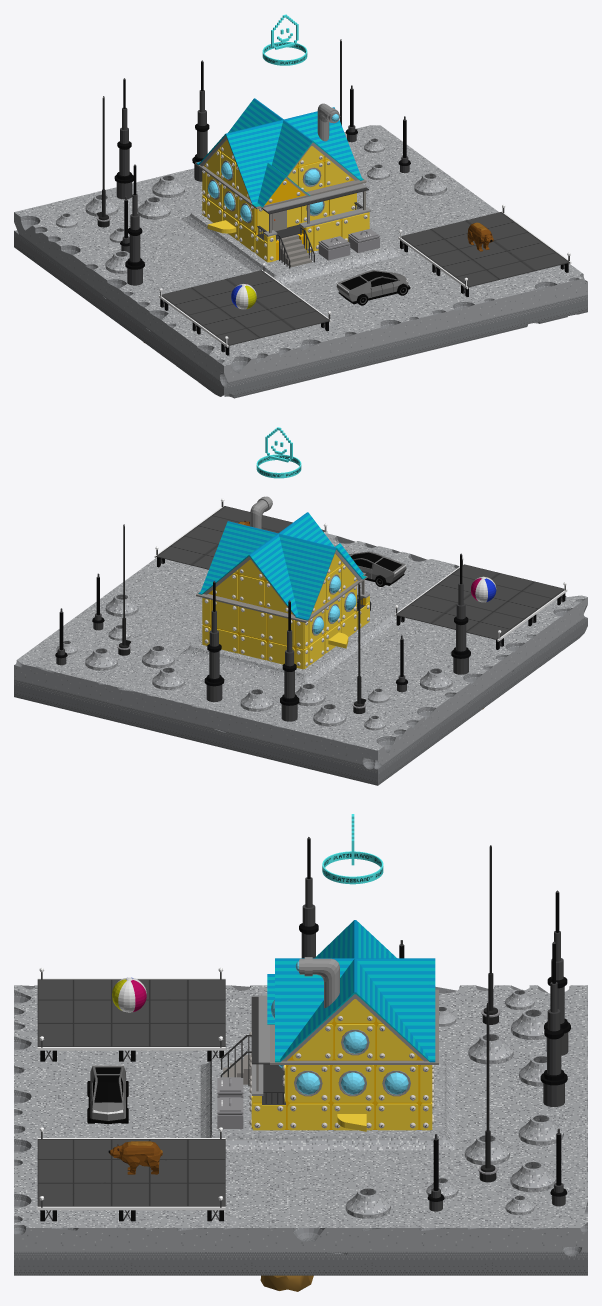
The picture shows the model from 3 angles, top to bottom: view 1: azimuth 30°, elevation 25°; view 2: azimuth 150°, elevation 25°; view 3: azimuth 270°, elevation 25°; orthographic projection. The views are drawn at different scales.
Visible parts, largest first — view 1: Cube.027, Cube.1366, Cube.026, Cube.025, Cube.028, VEHICLES_CYBERTRUCK, Cylinder.021, Cylinder.020, Cylinder.017, TYPE_PREMIUM, Cube.029, Cube.030 (+6 smaller); view 2: Cube.027, Cube.1366, Cube.025, Cube.028, Cube.026, VEHICLES_CYBERTRUCK, Cylinder.017, Cylinder.020, Cylinder.021, TYPE_PREMIUM, Cylinder.028, Cylinder.027 (+8 smaller); view 3: Cube.027, Cube.1366, Cube.025, Cube.026, Cube.028, VEHICLES_CYBERTRUCK, Cylinder.017, Cylinder.020, ANIMAL_OSO, TYPE_PREMIUM, Cylinder.021, Cylinder.033 (+13 smaller).
Part boxes in pixels (x1,y1,x2,y2): Cube.027: (14, 125, 587, 398); Cube.1366: (195, 98, 371, 268); Cube.026: (398, 204, 571, 296); Cube.025: (158, 263, 331, 355); Cube.028: (181, 210, 401, 284); VEHICLES_CYBERTRUCK: (336, 270, 410, 305); Cylinder.021: (125, 164, 144, 285); Cylinder.020: (114, 78, 133, 199); Cylinder.017: (192, 60, 209, 181); TYPE_PREMIUM: (262, 14, 307, 65); Cube.029: (318, 236, 350, 260); Cube.030: (348, 229, 379, 253); Cube.027: (14, 533, 587, 785); Cube.1366: (196, 496, 371, 669); Cube.025: (394, 557, 567, 649); Cube.028: (180, 607, 396, 684); Cube.026: (154, 498, 327, 569); VEHICLES_CYBERTRUCK: (349, 551, 406, 586); Cylinder.017: (204, 581, 224, 702); Cylinder.020: (280, 600, 299, 721); Cylinder.021: (451, 553, 470, 674); TYPE_PREMIUM: (256, 427, 301, 478); Cylinder.028: (313, 703, 346, 726); Cylinder.027: (240, 688, 273, 711); Cube.027: (14, 985, 587, 1275); Cube.1366: (220, 920, 438, 1131); Cube.025: (37, 967, 225, 1061); Cube.026: (37, 1127, 225, 1221); Cube.028: (200, 1058, 455, 1150); VEHICLES_CYBERTRUCK: (87, 1065, 128, 1124); Cylinder.017: (540, 941, 567, 1106); Cylinder.020: (544, 890, 570, 1055); ANIMAL_OSO: (108, 1141, 162, 1174); TYPE_PREMIUM: (322, 814, 383, 884); Cylinder.021: (299, 837, 318, 958); Cylinder.033: (345, 1187, 390, 1218).
Bounding box in the file's own units: 4000 × 2816 × 4000.
35 materials, 5 textured.
